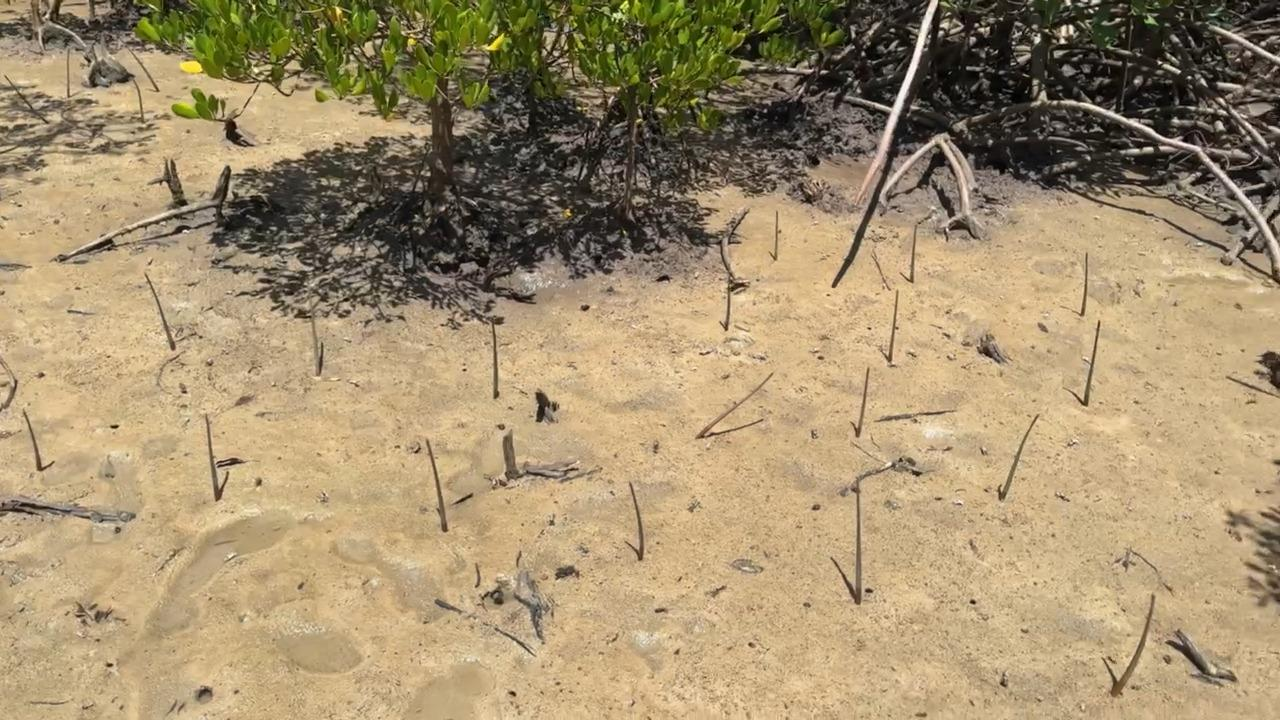Tree: (696, 373, 774, 439), (1110, 593, 1156, 697), (999, 414, 1041, 500), (145, 274, 176, 350), (5, 75, 50, 124), (119, 38, 159, 91), (426, 438, 447, 532), (1081, 320, 1102, 406), (305, 277, 321, 373), (205, 414, 221, 502), (629, 482, 645, 560), (23, 409, 42, 472), (856, 368, 870, 437), (856, 476, 863, 605), (887, 289, 899, 361), (1080, 253, 1090, 316), (492, 319, 499, 398), (723, 274, 732, 332), (910, 224, 918, 283), (133, 79, 144, 120), (775, 210, 779, 260), (67, 49, 71, 97)
